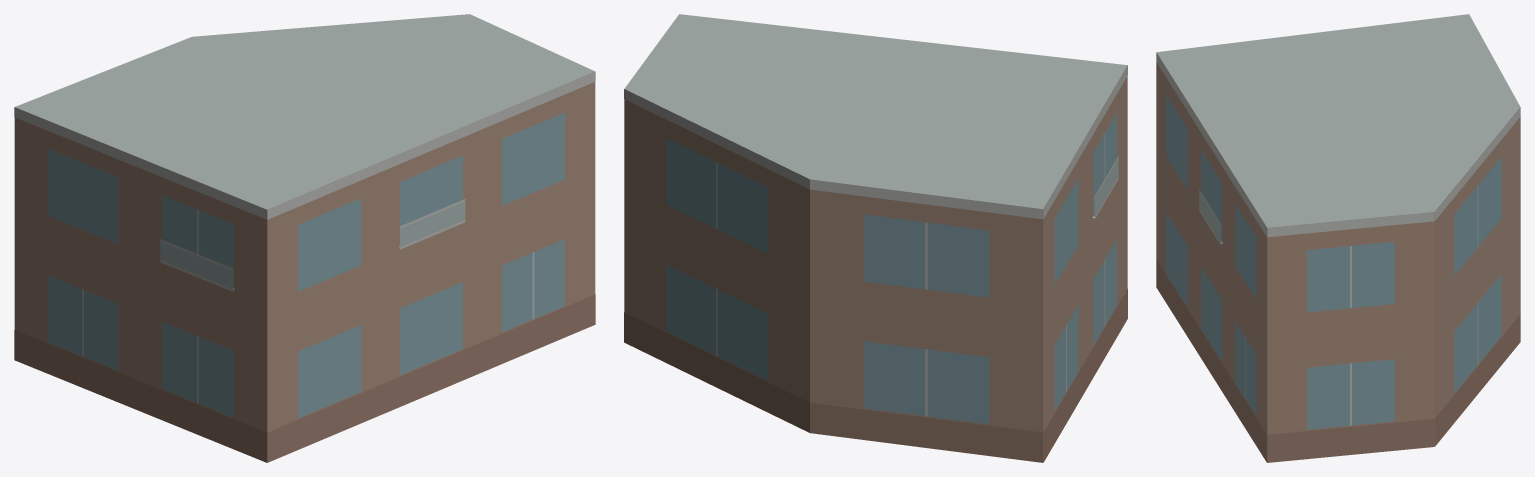
The model's file is survey-upis-32717567.glb.
3 views of the same model, side by side, from view 1: azimuth 30°, elevation 25°; view 2: azimuth 150°, elevation 25°; view 3: azimuth 270°, elevation 25° (orthographic). The views are drawn at different scales.
Parts seen in each view (by area): view 1: survey-upis-32717567.tmp; view 2: survey-upis-32717567.tmp; view 3: survey-upis-32717567.tmp.
Boxes of the visible parts, left/top/right/bottom form: survey-upis-32717567.tmp: left=14, top=14, right=595, bottom=462; survey-upis-32717567.tmp: left=624, top=14, right=1127, bottom=462; survey-upis-32717567.tmp: left=1156, top=14, right=1520, bottom=462.
Bounding box in the file's own units: 11.92 × 6.1 × 8.58.
